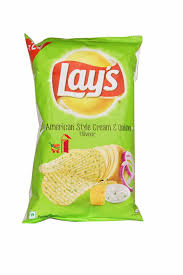lays-med: (24, 33, 143, 225)
